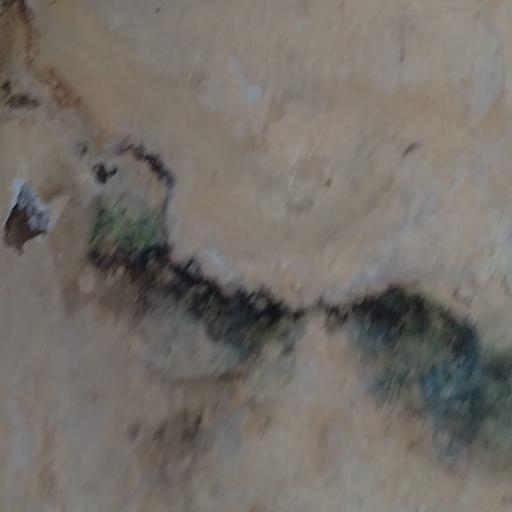algae: (47, 71, 512, 473)
